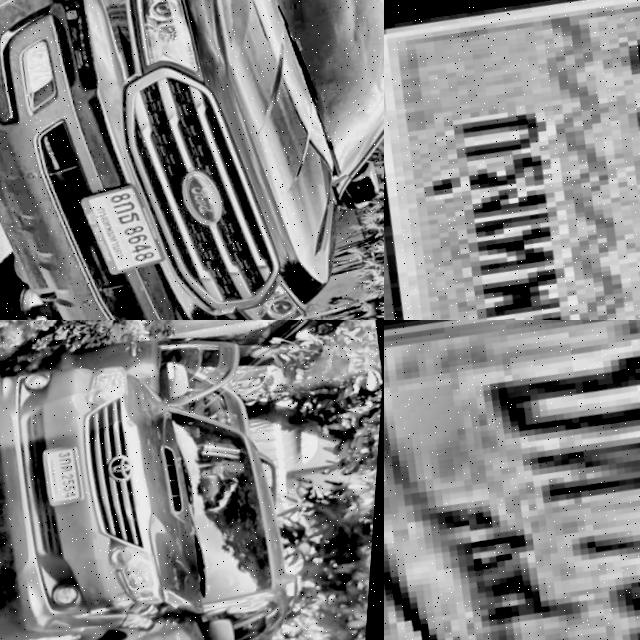license-plate: (384, 0, 640, 320), (384, 320, 640, 640), (76, 171, 179, 281), (42, 441, 94, 506)
